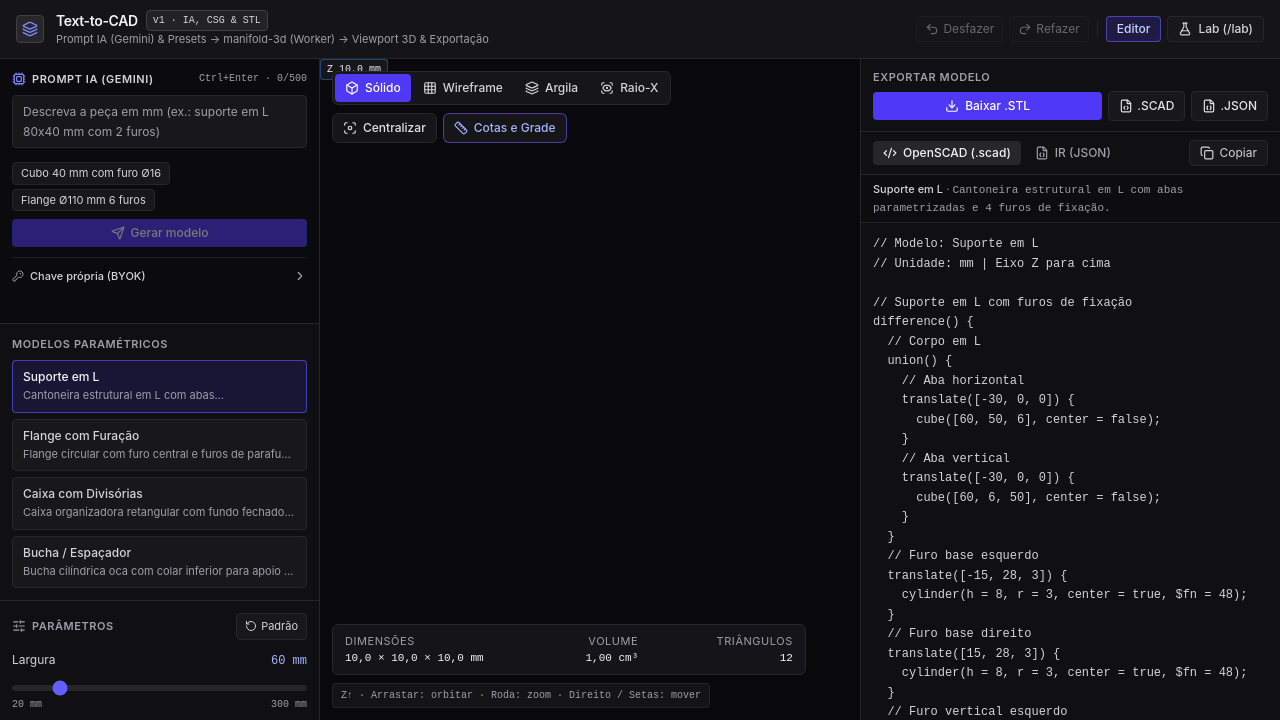
Scenario: Integração M4: AiPromptPanel e modo IA no App › preenche prompt pelo chip de sugestão e envia via Ctrl+Enter
Later steps or results of the test are not shown.
Click the button with aria-label "Usar sugestão: Cubo 40 mm com furo Ø16".
click(91, 173)  # box 12,162 -> 170,184
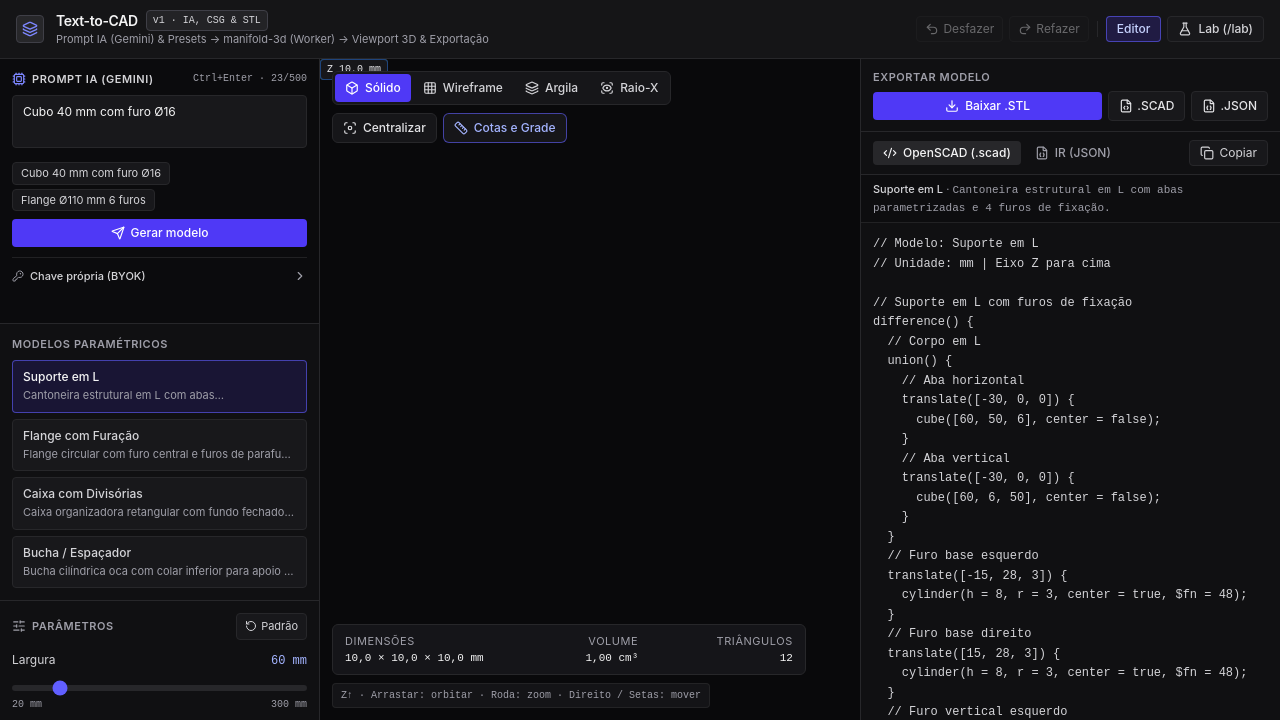
Expected: the text box with test id "ai-prompt-input" holds "Cubo 40 mm com furo Ø16", 12,95 -> 307,148
